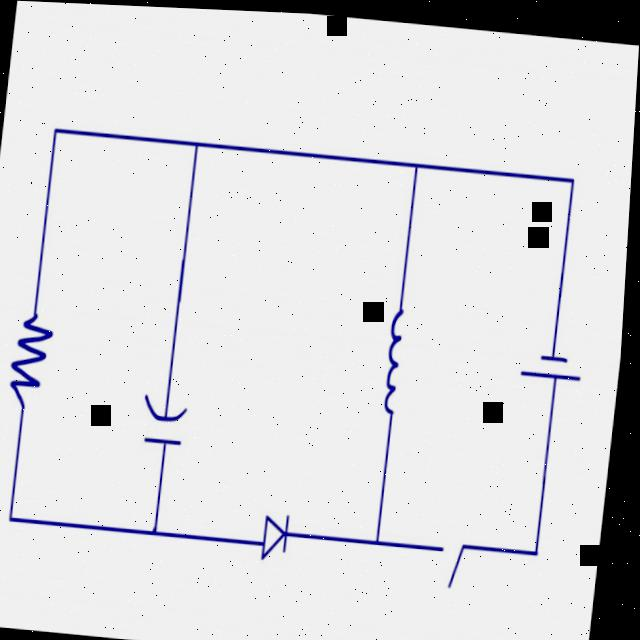capacitor: (129, 375, 211, 464)
diode: (251, 489, 315, 572)
inductor: (362, 267, 427, 435)
resistor: (0, 288, 77, 439)
source: (507, 324, 601, 399)
switch: (420, 515, 487, 602)
